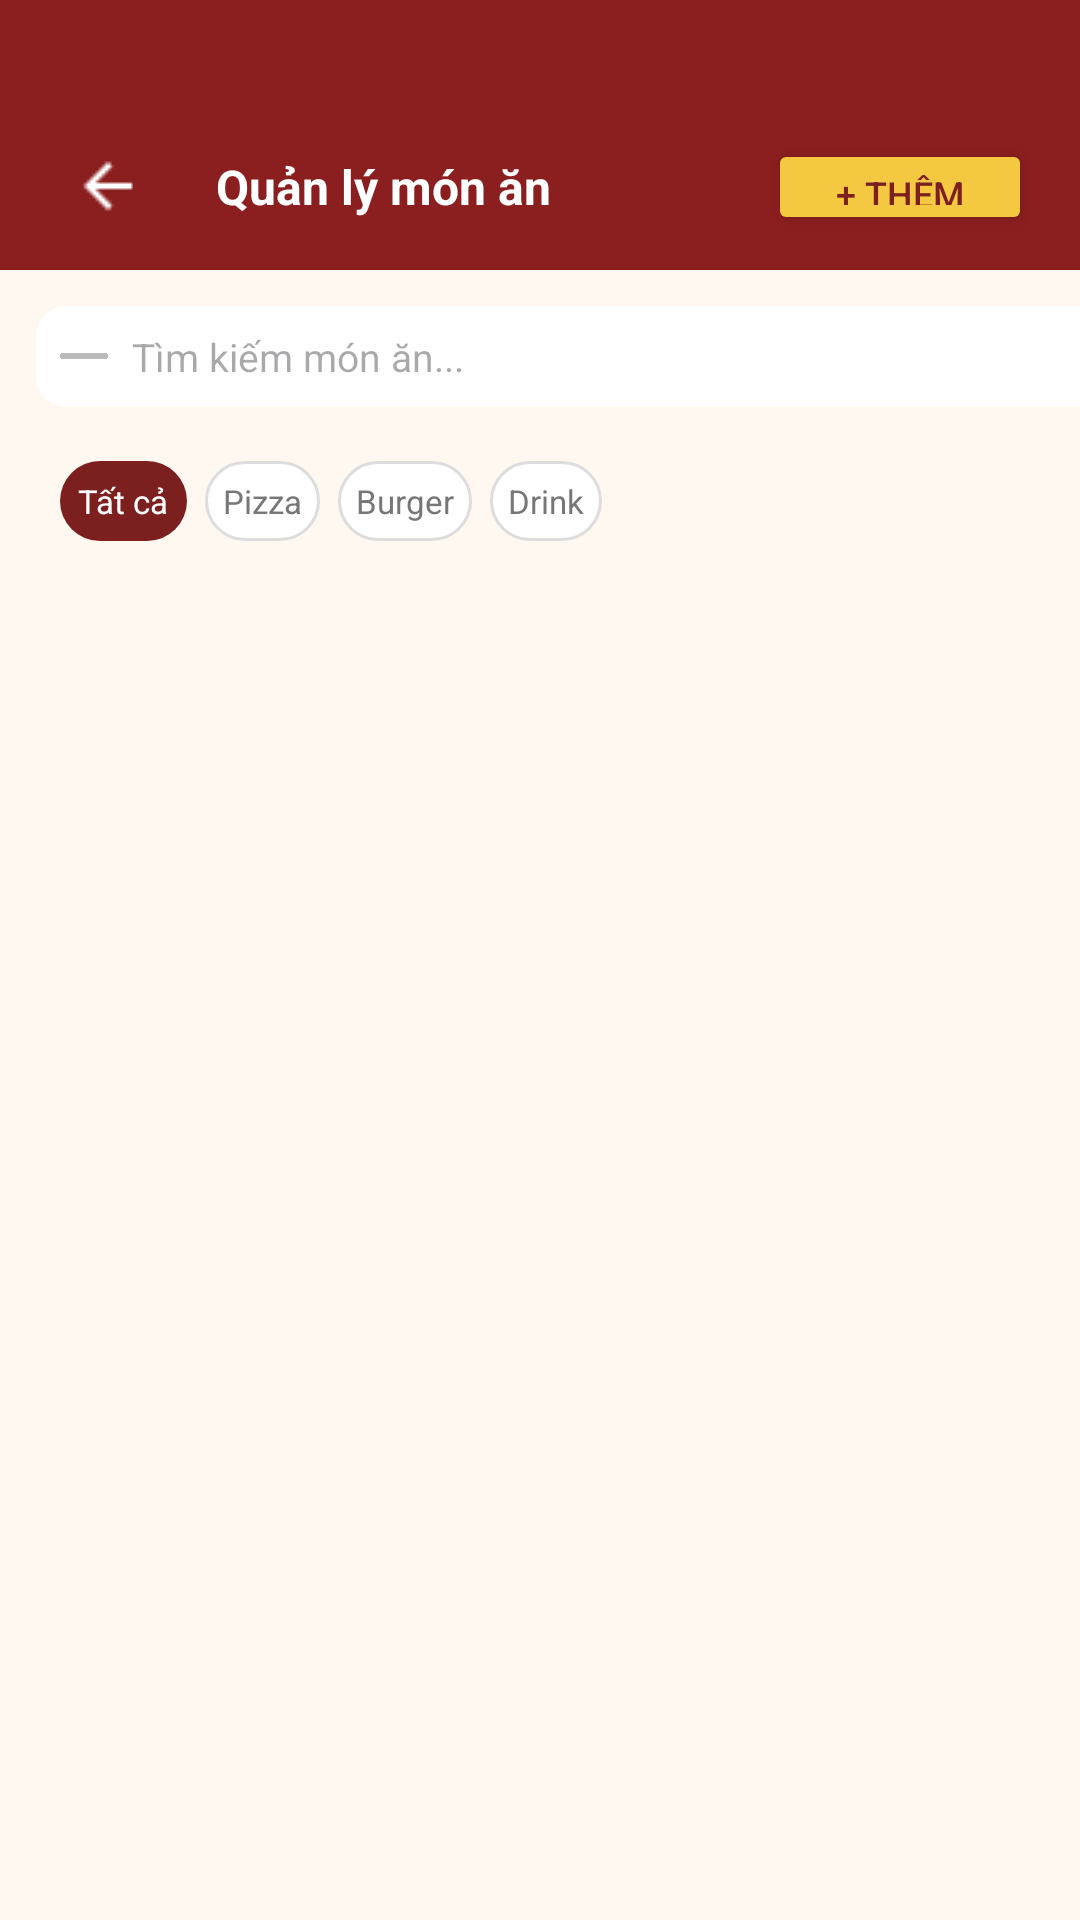

Named icons in this screenshot (1080px×1920px) and their centers, (x=x, y=y):
back: (x=108, y=186)
